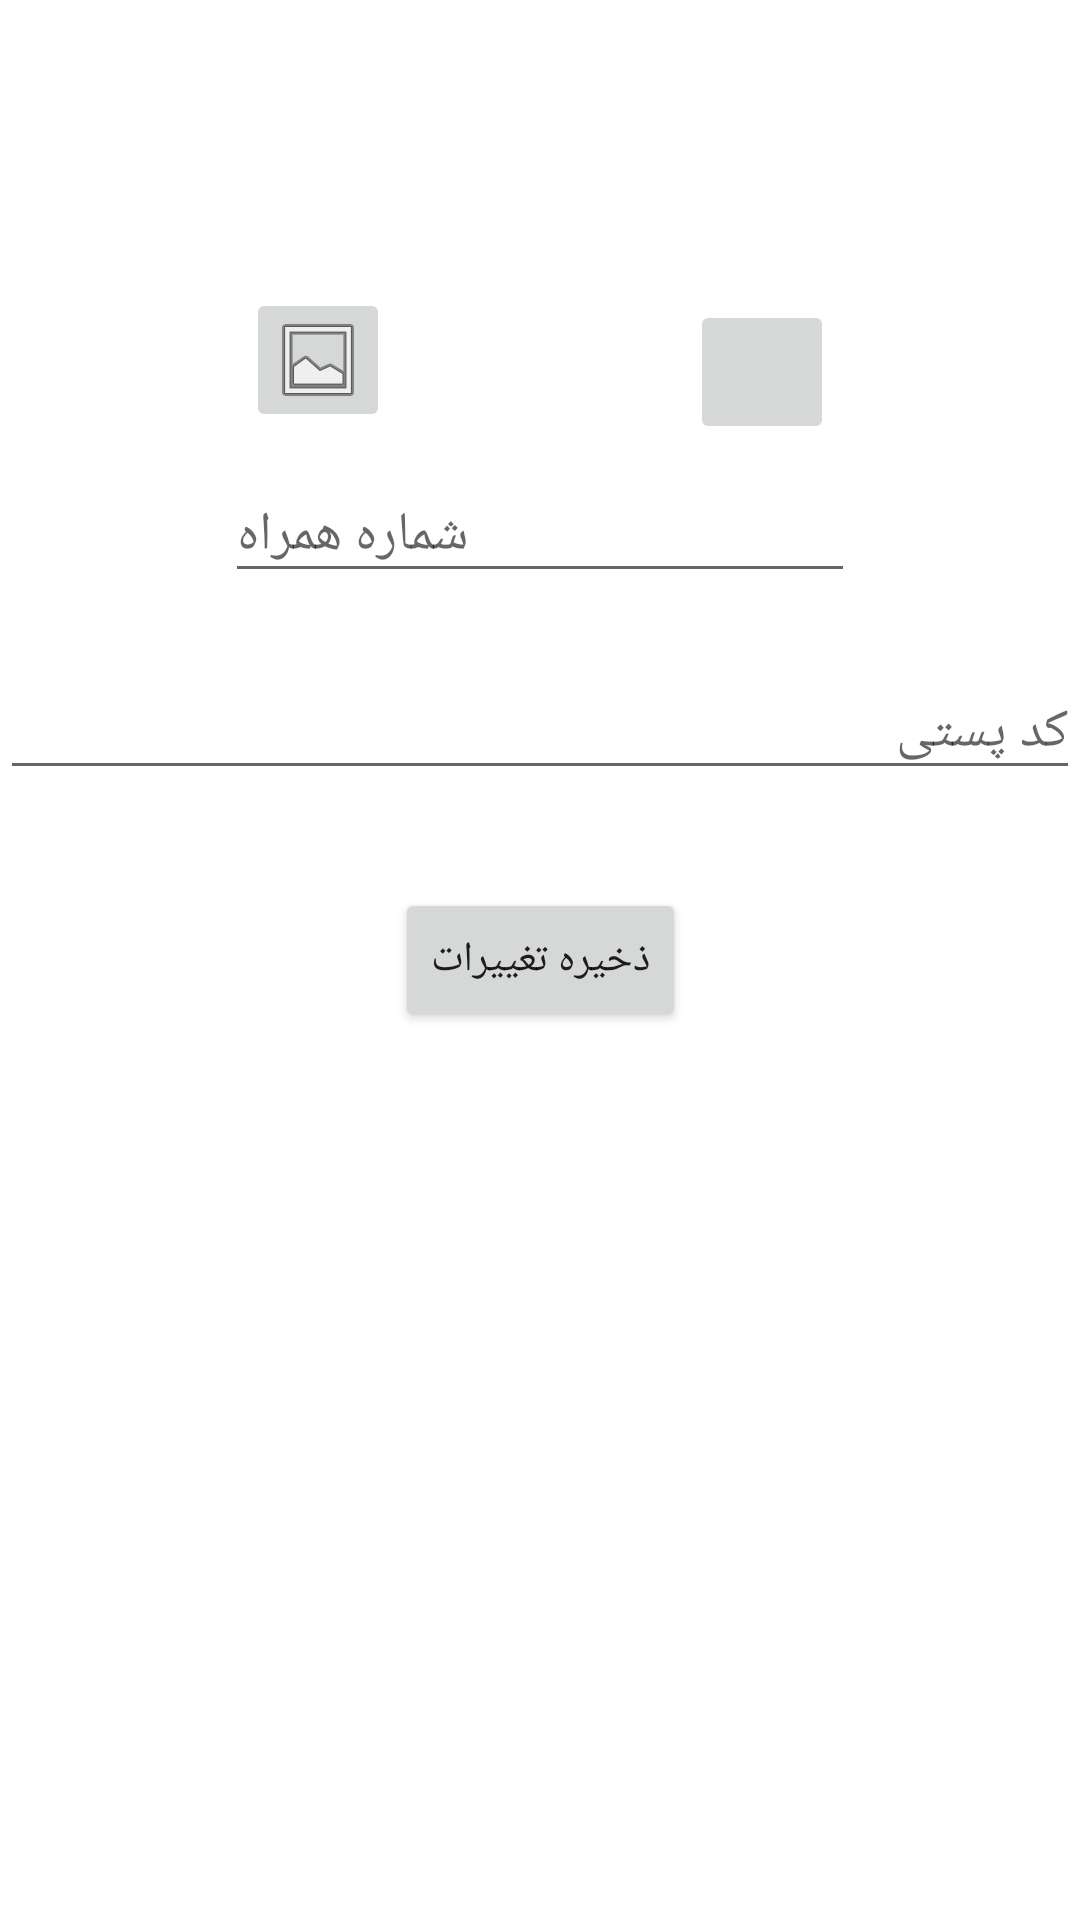

Locate icon controls on the screen. Image size 1080×1920, boxes as (x1=x1, y1=y1, x2=x2, y2=y2).
gallery: (x1=258, y1=306, x2=378, y2=414)
